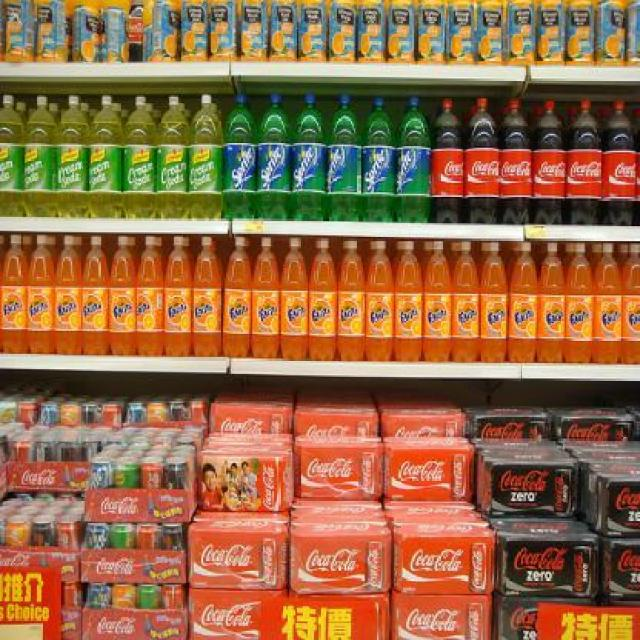Drinks: (496, 526, 602, 599), (199, 432, 293, 513), (188, 518, 289, 590), (394, 524, 497, 594), (290, 524, 392, 594), (478, 459, 584, 521), (293, 433, 384, 499), (384, 437, 474, 501), (186, 592, 289, 638), (326, 93, 362, 222), (566, 98, 602, 225), (602, 98, 638, 225), (361, 96, 397, 222), (391, 594, 494, 638), (291, 93, 326, 221), (397, 95, 432, 223), (464, 97, 499, 225), (257, 92, 291, 220), (499, 98, 533, 224), (532, 100, 566, 225), (223, 95, 257, 219), (432, 98, 465, 224), (222, 236, 252, 358), (192, 236, 222, 356), (508, 242, 538, 362), (252, 236, 280, 358), (309, 238, 337, 360), (367, 240, 395, 362), (395, 240, 423, 362), (479, 242, 507, 364), (565, 242, 593, 364), (109, 236, 137, 356), (136, 236, 164, 356), (338, 238, 365, 362), (424, 240, 451, 362), (164, 235, 191, 356), (281, 238, 308, 359), (452, 241, 479, 362), (54, 234, 81, 354), (82, 236, 109, 356), (539, 242, 566, 362), (594, 244, 621, 364), (28, 234, 54, 354), (1, 234, 27, 354), (621, 243, 639, 365)
